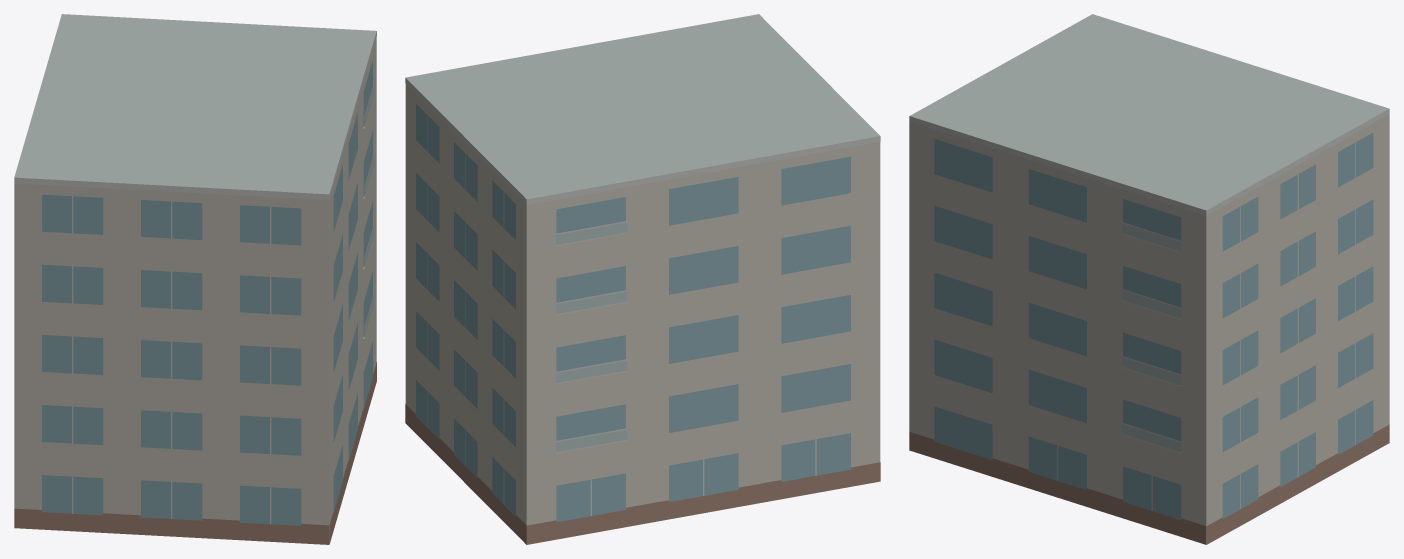
Rendered from survey-upis-32496168.glb.
The picture shows the model from 3 angles, left to right: view 1: azimuth 30°, elevation 25°; view 2: azimuth 150°, elevation 25°; view 3: azimuth 270°, elevation 25°; orthographic projection. The views are drawn at different scales.
Parts seen in each view (by area): view 1: survey-upis-32496168.tmp; view 2: survey-upis-32496168.tmp; view 3: survey-upis-32496168.tmp.
Part boxes in pixels (x1,y1,x2,y2): survey-upis-32496168.tmp: (14, 14, 376, 544); survey-upis-32496168.tmp: (405, 14, 880, 544); survey-upis-32496168.tmp: (909, 14, 1389, 544).
Size of the model in its own units: 18.66 by 14.8 by 19.27.
